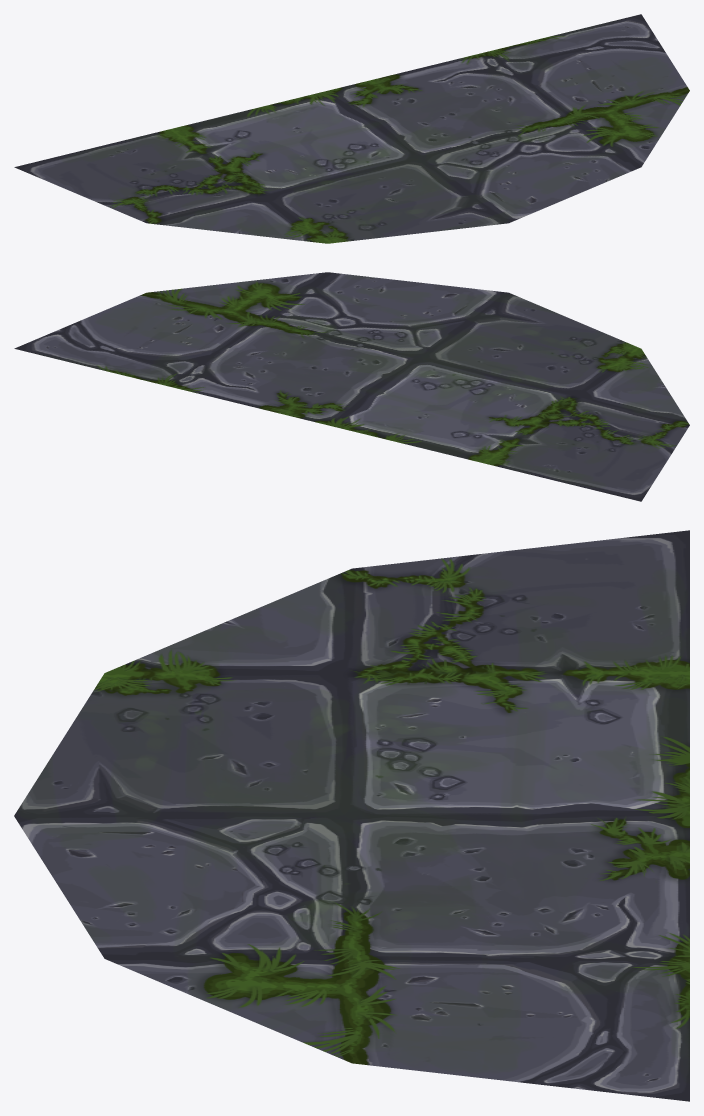
The model's file is MOD_Floor_01_O_convex_med_2_half.fbx.
3 views of the same model, one above another, from view 1: azimuth 30°, elevation 25°; view 2: azimuth 150°, elevation 25°; view 3: azimuth 270°, elevation 25° (orthographic). The views are drawn at different scales.
Visible parts, largest first — view 1: MOD_Floor_01_O_convex_med_2_half; view 2: MOD_Floor_01_O_convex_med_2_half; view 3: MOD_Floor_01_O_convex_med_2_half.
Boxes of the visible parts, x1=… form: MOD_Floor_01_O_convex_med_2_half: x1=14, y1=14, x2=689, y2=243; MOD_Floor_01_O_convex_med_2_half: x1=14, y1=272, x2=689, y2=501; MOD_Floor_01_O_convex_med_2_half: x1=14, y1=530, x2=689, y2=1101.
Bounding box in the file's own units: 400 × 0 × 200.
